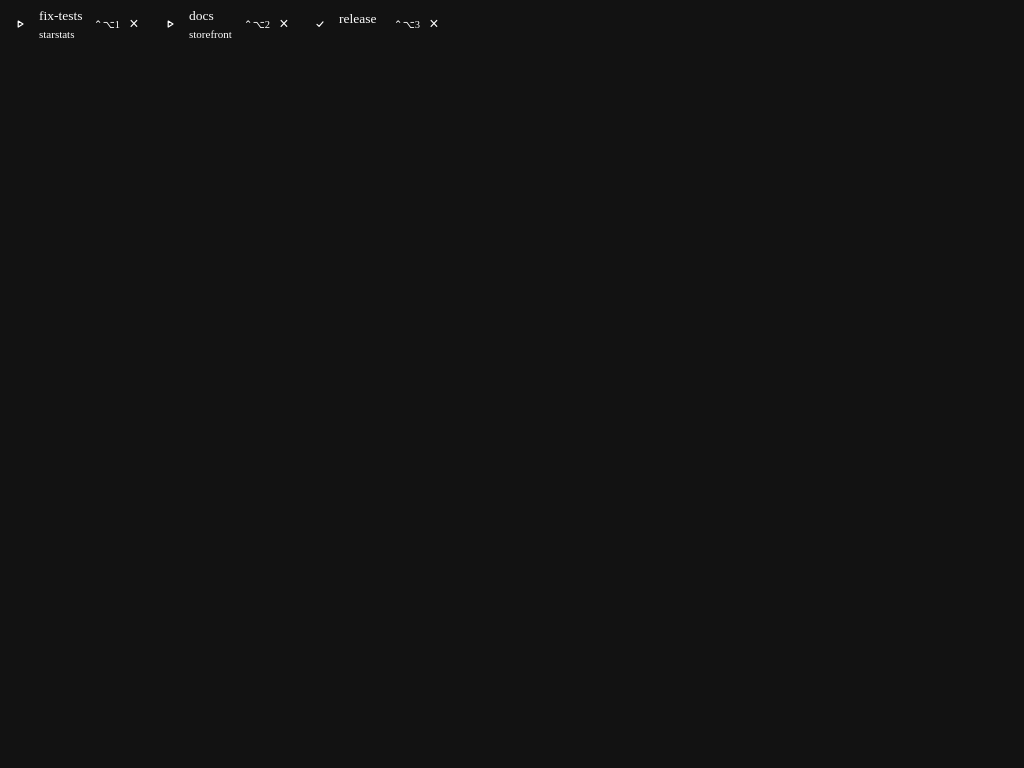
Test: SessionTabs › asks Hide or End for a running tab, and Hide only hides it
The width and height of the screenshot is (1024, 768).
Step 1. Click the button named "Close docs" → click(284, 24), box [272, 12, 296, 36]
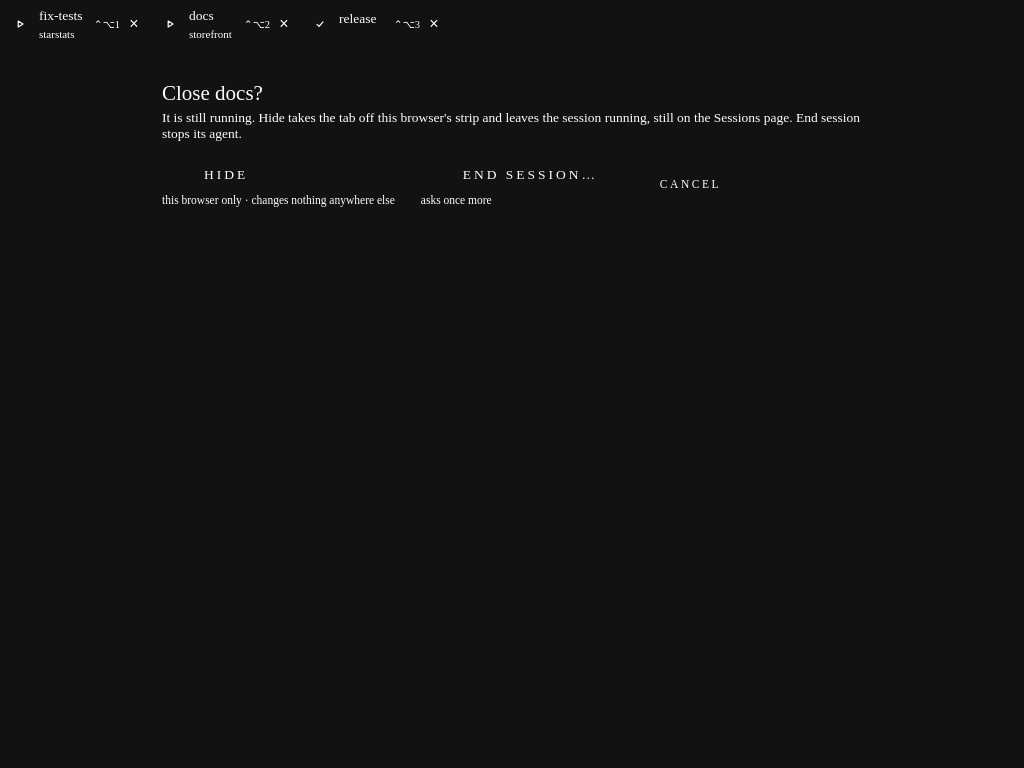
Expected: the dialog "Close docs?" shows "Sessions page", [162, 110, 860, 141]
Step 2. Click the button "Hide" → click(207, 175), box [162, 160, 252, 190]
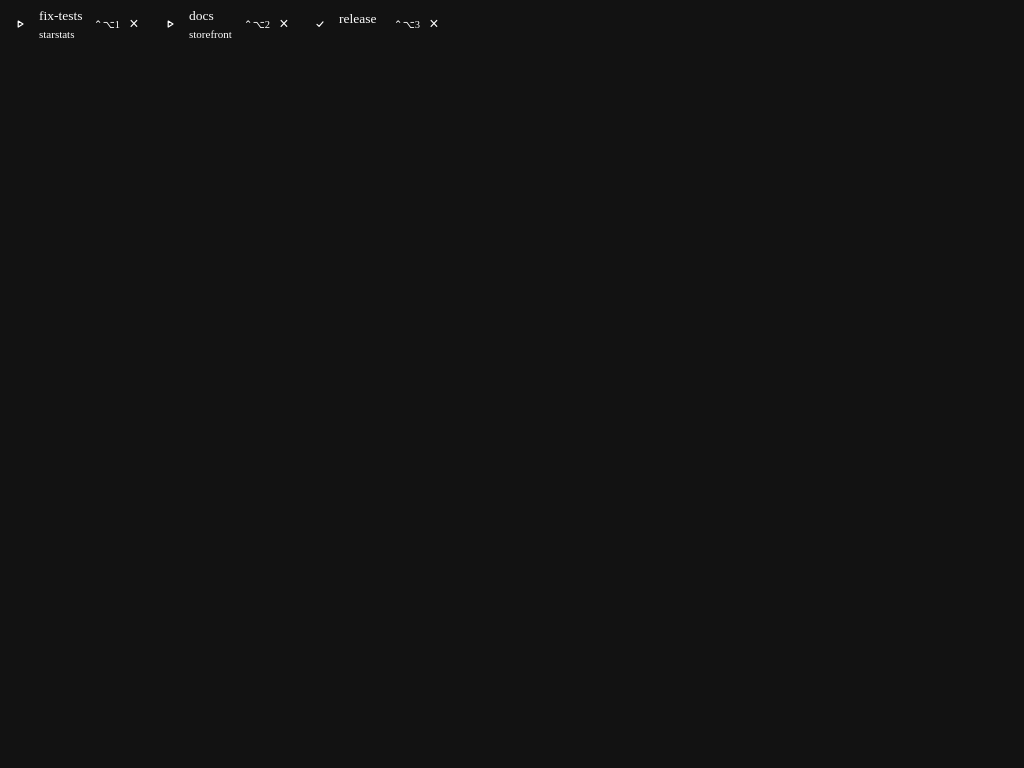
Expected: the dialog is gone
